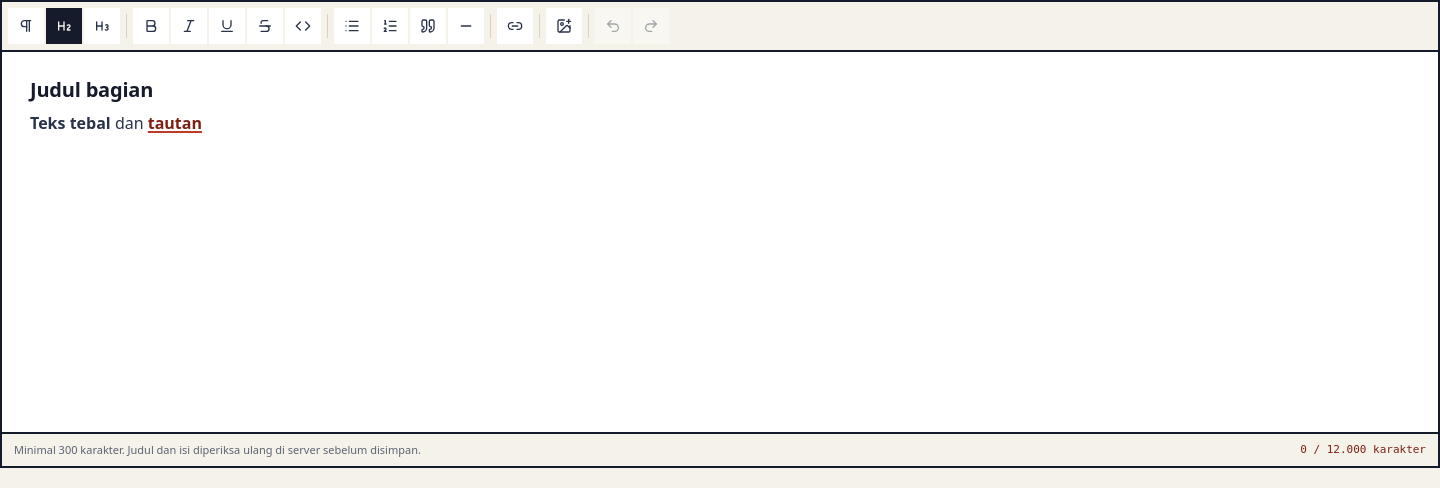
Test case: RichTextEditor › membuka dialog tautan dan menolak URL berbahaya tanpa menyimpan
Click the button named "Sisipkan atau ubah tautan" at (515, 26), box [497, 8, 533, 44]
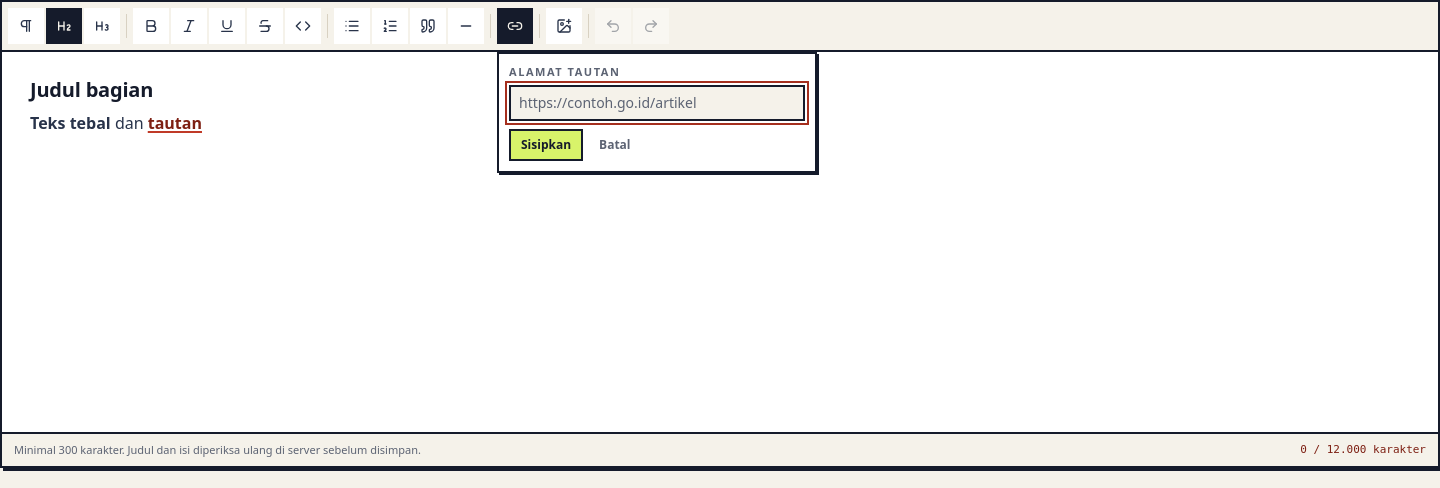
Type "javascript:alert(1)" into the field labelled "Alamat tautan" at (657, 102), box [509, 84, 805, 120]
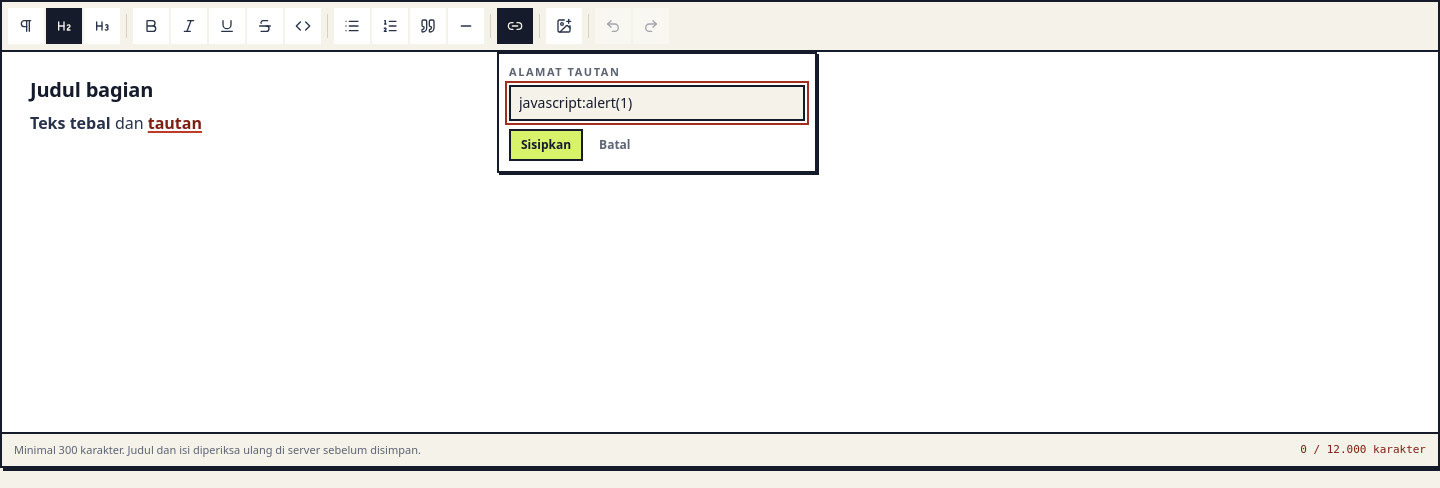
Click the button "Sisipkan" at (546, 144), box [509, 128, 583, 160]
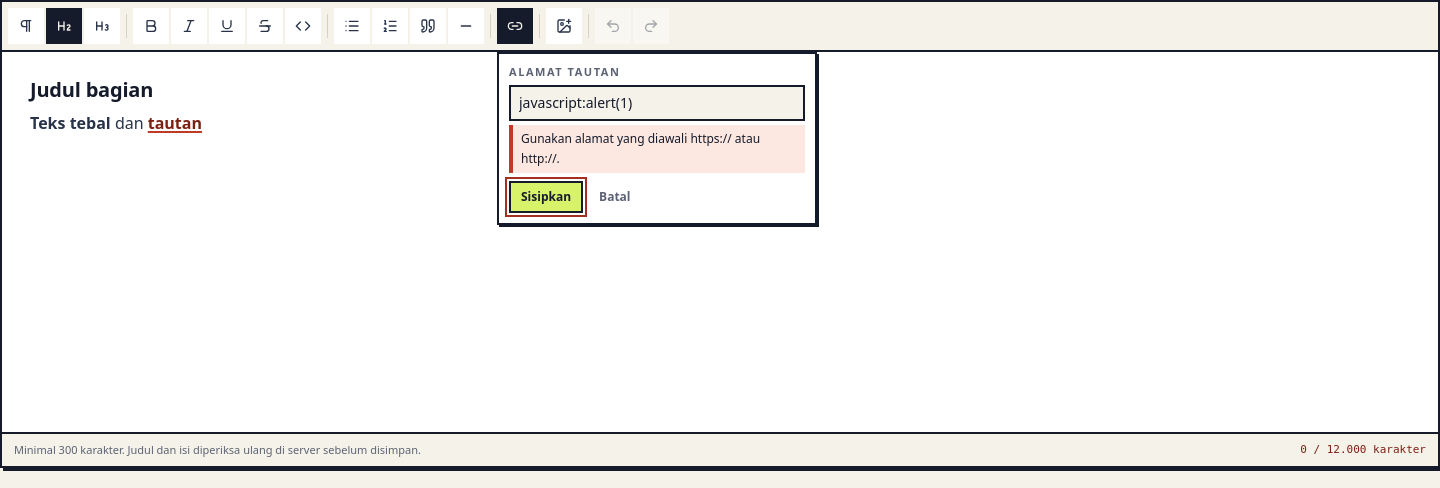
Check: the message shows "https://", box [521, 130, 760, 166]
